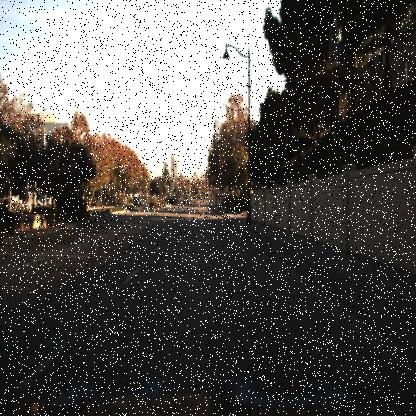car: (179, 189, 191, 207), (130, 194, 142, 209)
